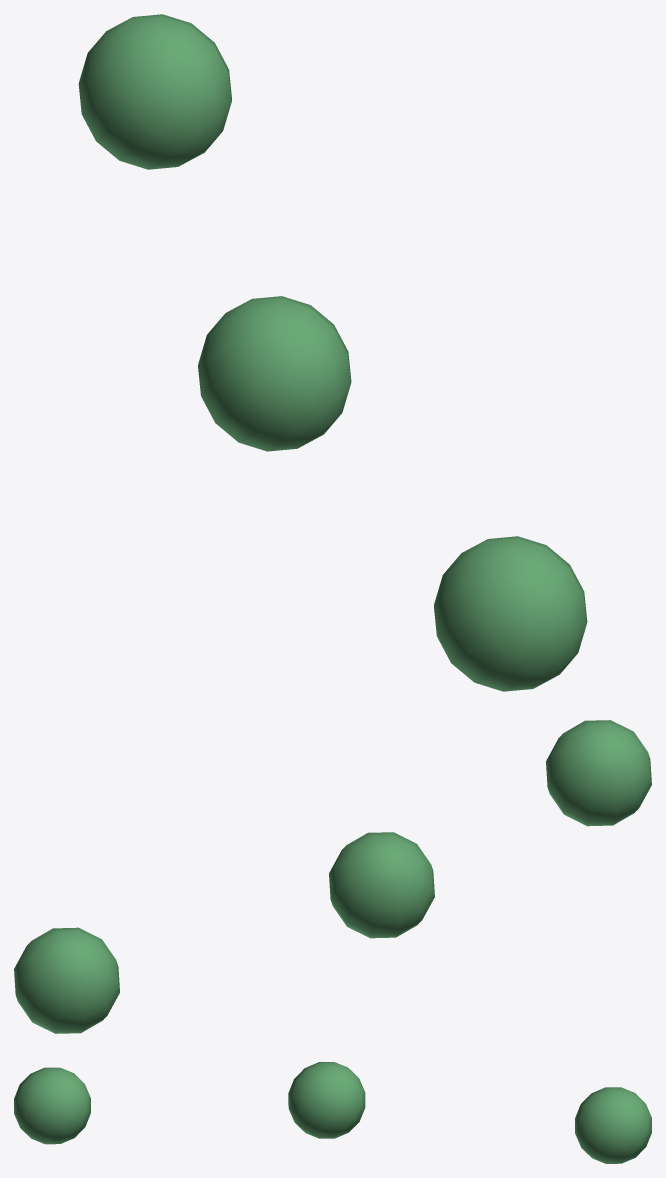
3 views of the same model, one above another, from view 1: azimuth 30°, elevation 25°; view 2: azimuth 150°, elevation 25°; view 3: azimuth 270°, elevation 25° (orthographic). The views are drawn at different scales.
Parts seen in each view (by area): view 1: 左侧气管前淋巴结; view 2: 左侧气管前淋巴结; view 3: 左侧气管前淋巴结.
Part boxes in pixels (left/top/right/bottom): 左侧气管前淋巴结: left=78, top=14, right=587, bottom=691; 左侧气管前淋巴结: left=14, top=720, right=651, bottom=1033; 左侧气管前淋巴结: left=14, top=1062, right=651, bottom=1163.
Size of the model in its own units: 0.00957 by 0.00543 by 0.0312.
